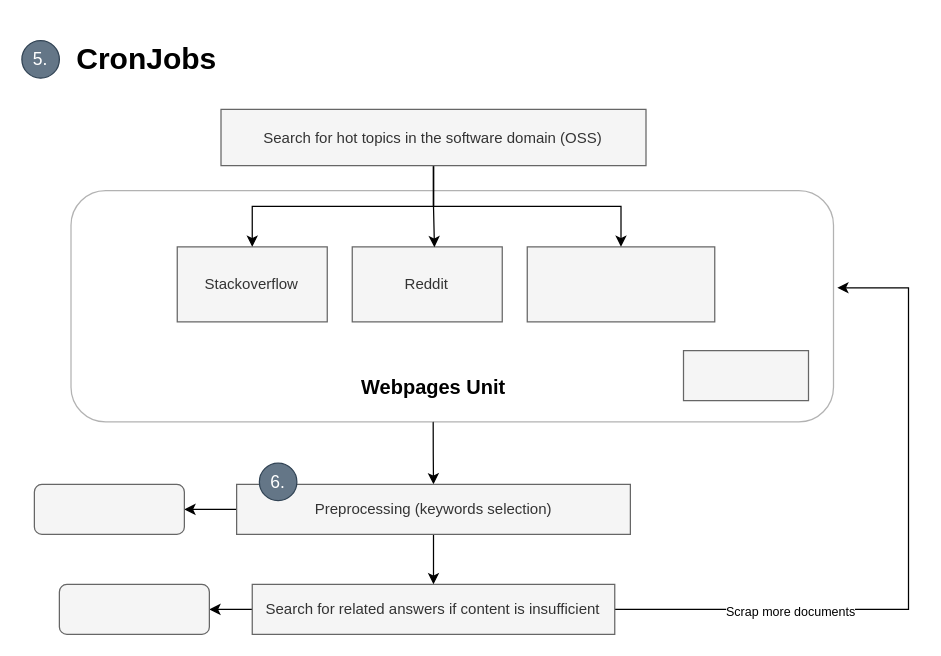
Some shapes in this 941 by 656 pixel diagram are drawn without their labels. The shapes that lost their labels are listed below. From the top down, each one's centre as x and y in pixels, then its label:
[620,284]: Twitter (for immediate news)
[745,375]: Github
[108,508]: Question Searching in FAQ Repository (4.)
[133,608]: Inference Engine (2.)
